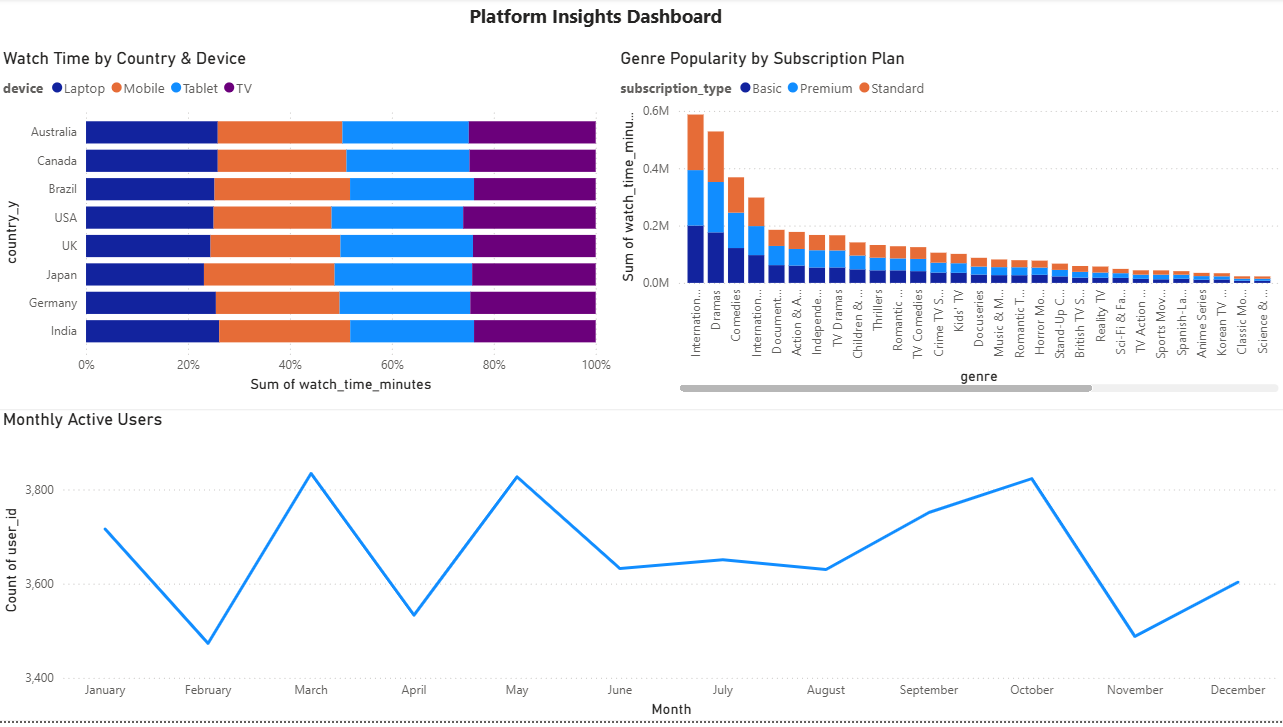

What the dashboard file says about the page in this screenshot:
{"tool":"powerbi","page":{"name":"Platform Insights","canvas":[1280,720],"ordinal":3},"visuals":[{"type":"hundredPercentStackedBarChart","title":"Watch Time by Country & Device","fields":{"Category":["final_streaming_dataset.country_y"],"Series":["final_streaming_dataset.device"],"Y":["Sum(final_streaming_dataset.watch_time_minutes)"]},"box":[0,50,615,347.5],"z":0},{"type":"columnChart","title":"Genre Popularity by Subscription Plan","fields":{"Category":["final_streaming_dataset.genre"],"Series":["final_streaming_dataset.subscription_type"],"Y":["Sum(final_streaming_dataset.watch_time_minutes)"]},"box":[615,50,665,347.5],"z":1000},{"type":"lineChart","title":"Monthly Active Users","fields":{"Category":["final_streaming_dataset.watch_date.Variation.Date Hierarchy.Month"],"Y":["CountNonNull(final_streaming_dataset.user_id)"]},"box":[0,408.8,1280,311.2],"z":2000},{"type":"textbox","box":[463.8,0,281.2,37.5],"z":4000}]}

Visuals, with their boxes in screenshot pixels (x1, y1, x2, y2), scaled from the page's 1280x720 canvas onto the 1283x727 screenshot:
"Watch Time by Country & Device" hundredPercentStackedBarChart: [left=0, top=50, right=616, bottom=401]
"Genre Popularity by Subscription Plan" columnChart: [left=616, top=50, right=1282, bottom=401]
"Monthly Active Users" lineChart: [left=0, top=413, right=1282, bottom=726]
textbox: [left=465, top=0, right=747, bottom=38]
